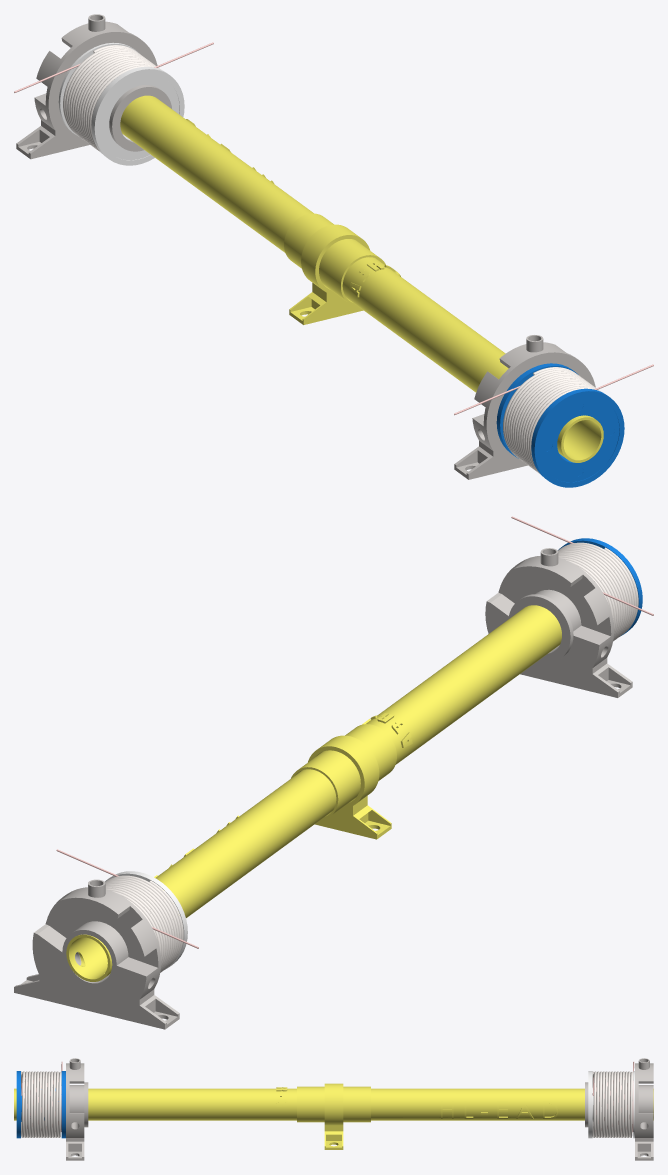
The model's file is gauss_cannon.glb.
3 renders of one model, top to bottom at view 1: azimuth 30°, elevation 25°; view 2: azimuth 150°, elevation 25°; view 3: azimuth 270°, elevation 25°, orthographic. The views are drawn at different scales.
Parts seen in each view (by area): view 1: Tubo_para_Bobinas_Entrada-2, Carrete_Azul-1, Tubo_para_Bobinas_Salida-2, Carrete_Blanco-1, Modulo_de_Sensores-3, Modulo_de_Sensores-4, Soporte_del_Tubo_Medio-2, Conector_para_Tubo_Final-1, Anillo_Final-1; view 2: Modulo_de_Sensores-3, Tubo_para_Bobinas_Salida-2, Tubo_para_Bobinas_Entrada-2, Modulo_de_Sensores-4, Carrete_Azul-1, Carrete_Blanco-1, Soporte_del_Tubo_Medio-2, Conector_para_Tubo_Final-1, Anillo_Final-2; view 3: Tubo_para_Bobinas_Salida-2, Tubo_para_Bobinas_Entrada-2, Carrete_Azul-1, Carrete_Blanco-1, Conector_para_Tubo_Final-1, Modulo_de_Sensores-3, Modulo_de_Sensores-4, Soporte_del_Tubo_Medio-2, Anillo_Final-2, Anillo_Final-1.
Boxes of the visible parts, box(x1,y1,x2,y2) form: Tubo_para_Bobinas_Entrada-2: box(342, 257, 603, 462); Carrete_Azul-1: box(454, 363, 653, 487); Tubo_para_Bobinas_Salida-2: box(120, 95, 313, 252); Carrete_Blanco-1: box(14, 42, 213, 165); Modulo_de_Sensores-3: box(16, 14, 157, 159); Modulo_de_Sensores-4: box(454, 335, 595, 479); Soporte_del_Tubo_Medio-2: box(289, 224, 370, 324); Conector_para_Tubo_Final-1: box(284, 213, 385, 305); Anillo_Final-1: box(109, 85, 171, 151); Modulo_de_Sensores-3: box(14, 879, 179, 1029); Tubo_para_Bobinas_Salida-2: box(66, 769, 336, 981); Tubo_para_Bobinas_Entrada-2: box(362, 605, 561, 764); Modulo_de_Sensores-4: box(485, 548, 632, 697); Carrete_Azul-1: box(511, 516, 653, 641); Carrete_Blanco-1: box(56, 849, 198, 972); Soporte_del_Tubo_Medio-2: box(308, 735, 391, 839); Conector_para_Tubo_Final-1: box(291, 724, 396, 819); Anillo_Final-2: box(508, 594, 573, 663); Tubo_para_Bobinas_Salida-2: box(371, 1088, 653, 1120); Tubo_para_Bobinas_Entrada-2: box(14, 1087, 296, 1120); Carrete_Azul-1: box(16, 1061, 65, 1138); Carrete_Blanco-1: box(588, 1061, 634, 1138); Conector_para_Tubo_Final-1: box(297, 1086, 370, 1122); Modulo_de_Sensores-3: box(635, 1058, 653, 1160); Modulo_de_Sensores-4: box(66, 1058, 84, 1160); Soporte_del_Tubo_Medio-2: box(324, 1083, 343, 1149); Anillo_Final-2: box(84, 1082, 88, 1127); Anillo_Final-1: box(585, 1082, 588, 1127).
Bounding box in the file's own units: 0.1026 × 0.069 × 0.52.
